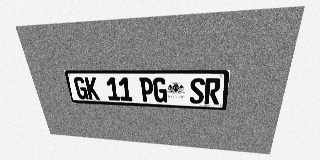1: (105, 77, 120, 101), (117, 77, 132, 101)
G: (73, 77, 89, 99), (153, 78, 167, 102)
K: (84, 77, 100, 100)
P: (139, 77, 154, 102)
R: (204, 78, 221, 105)
S: (189, 78, 205, 104)
